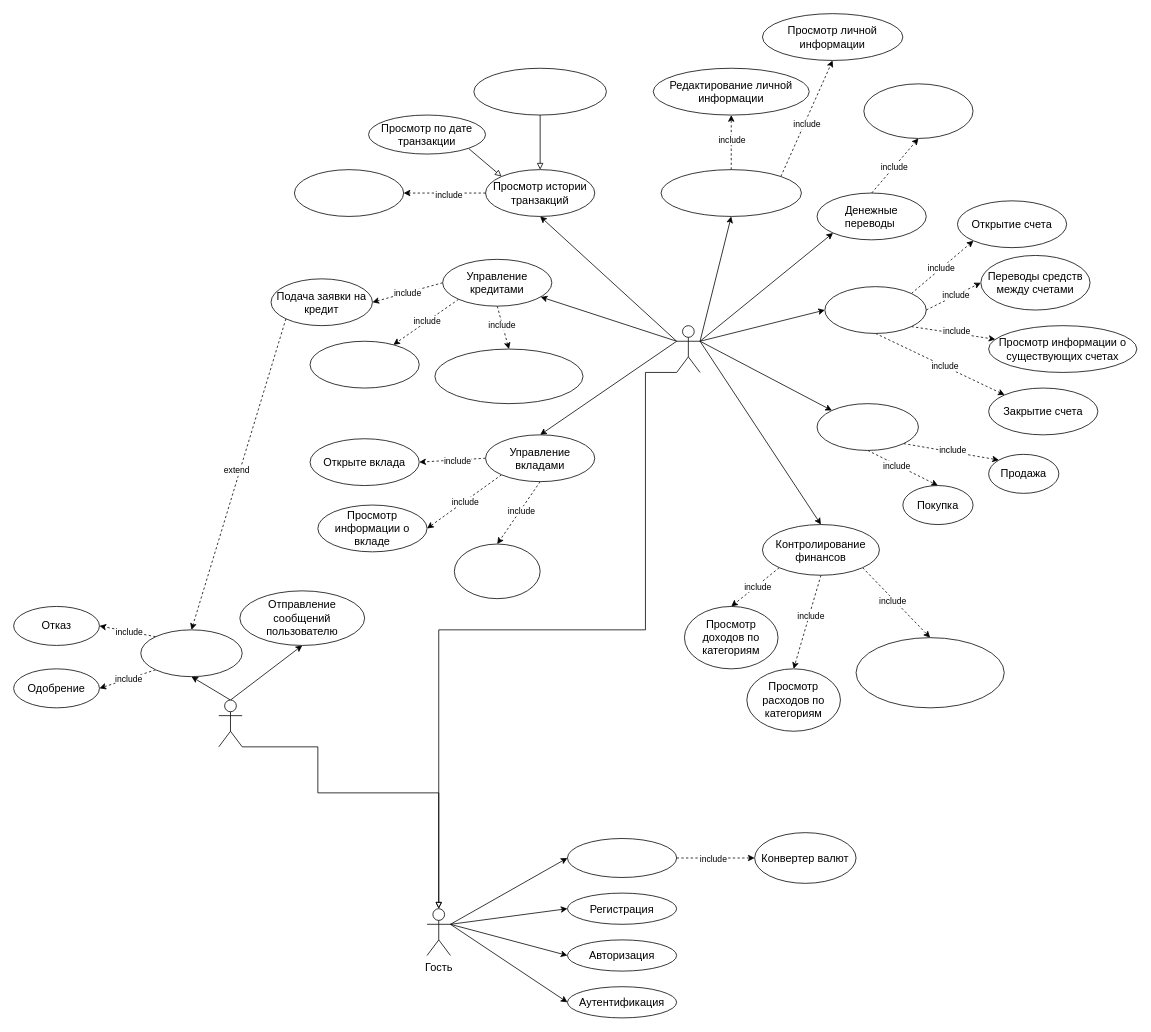
This 1151x1032 diagram has some shape labels left out. The shapes that lost their labels are listed below. From the top down, each one's box as (x1, y1, x2, y2) in pixels, then its label:
(473, 67, 606, 115): Просмотр за определенный период
(863, 83, 973, 138): Приобретение тарифа "Близкие"
(294, 169, 404, 216): Получение выписки
(660, 169, 801, 216): Управление личным кабинетом
(824, 286, 926, 333): Управление счетами
(309, 340, 419, 388): Погашение кредита
(676, 325, 700, 372): Клиент
(434, 348, 583, 404): Просмотр информации о существующих кредитах
(816, 403, 918, 450): Операции с валютой
(454, 543, 540, 599): Досрочное закрытие вклада
(140, 629, 242, 677): Рассмотрение заявки на кредит
(855, 637, 1004, 708): Получение отчетов по расходам/доходам
(218, 699, 242, 747): Администратор
(567, 838, 677, 878): Просмотр курса валют
